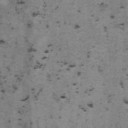oxide scale of temperature system: (0, 0, 125, 128), (119, 80, 128, 105)
